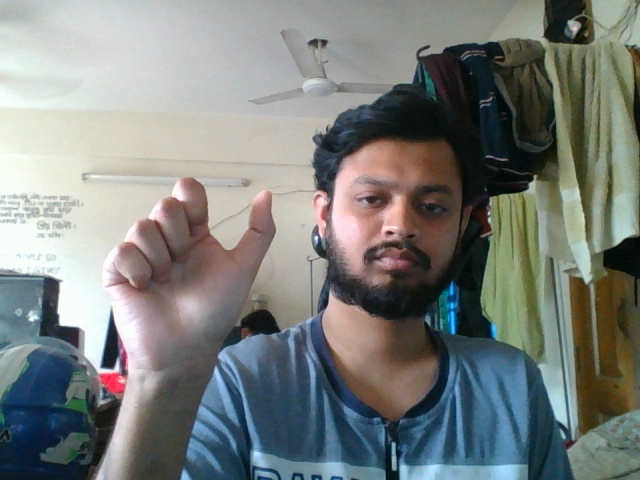dho: (98, 165, 283, 423)
